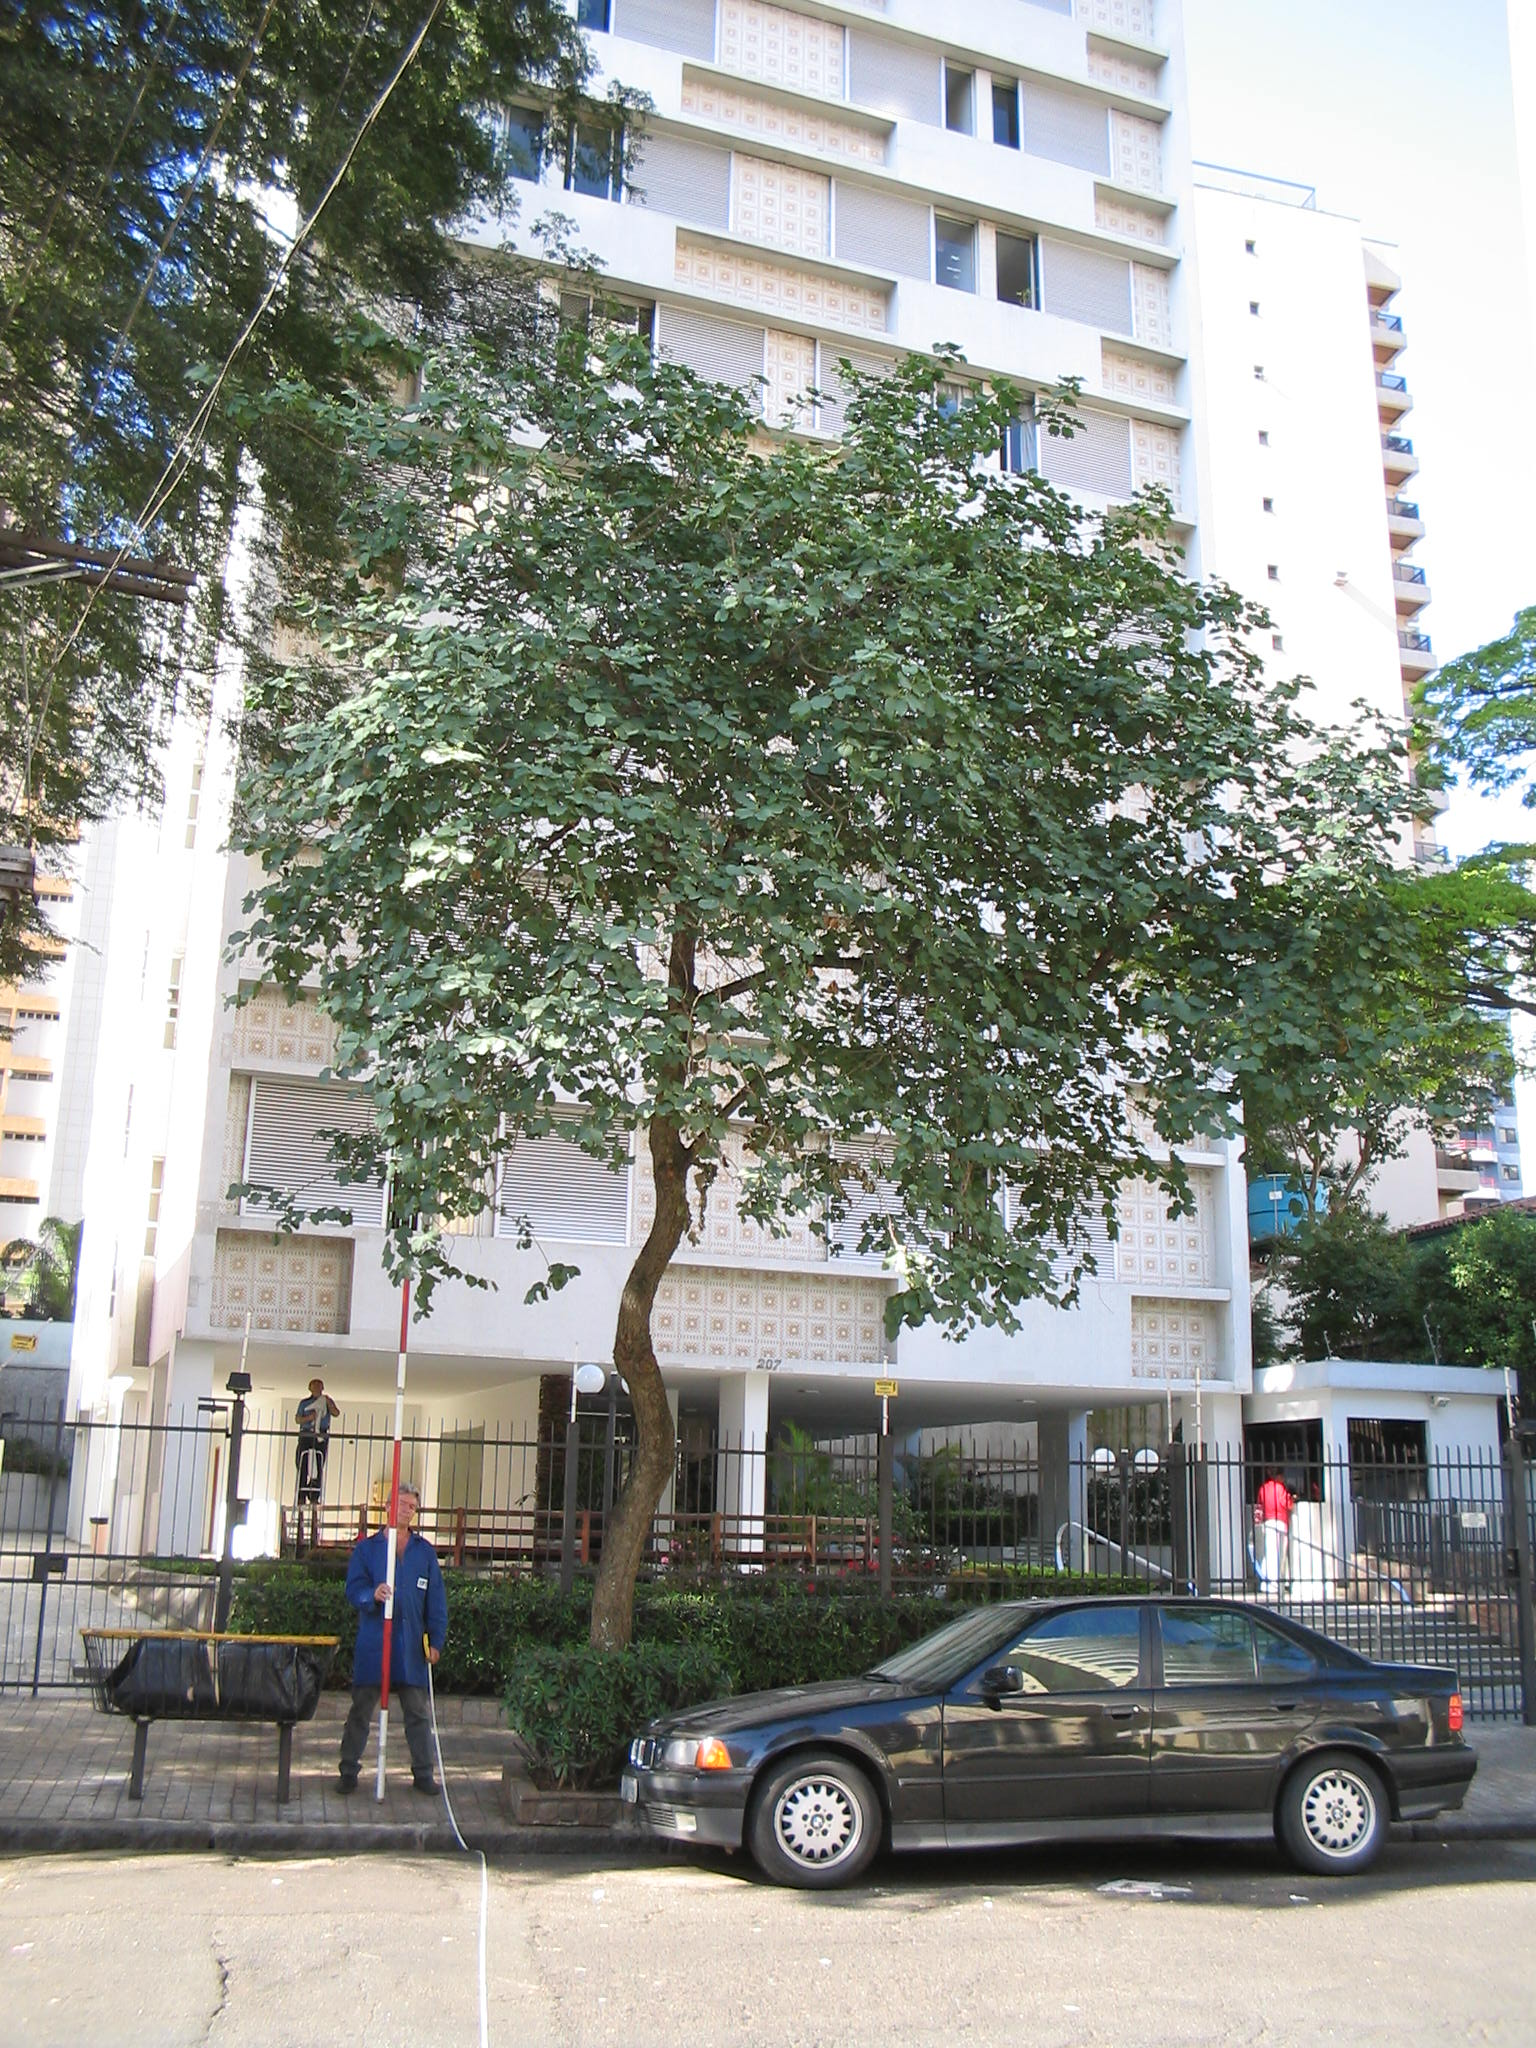crown: (198, 292, 1400, 1340)
stem: (532, 1205, 695, 1787)
stick: (360, 1276, 419, 1803)
tree: (189, 287, 1418, 1796)
